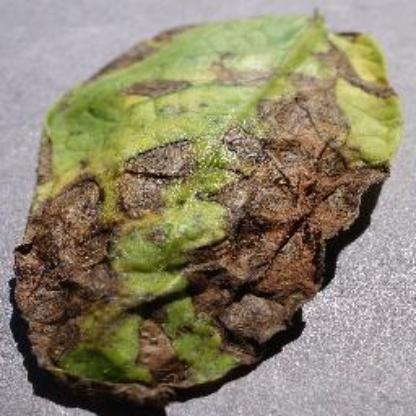Early-Blight: (17, 13, 407, 400)
